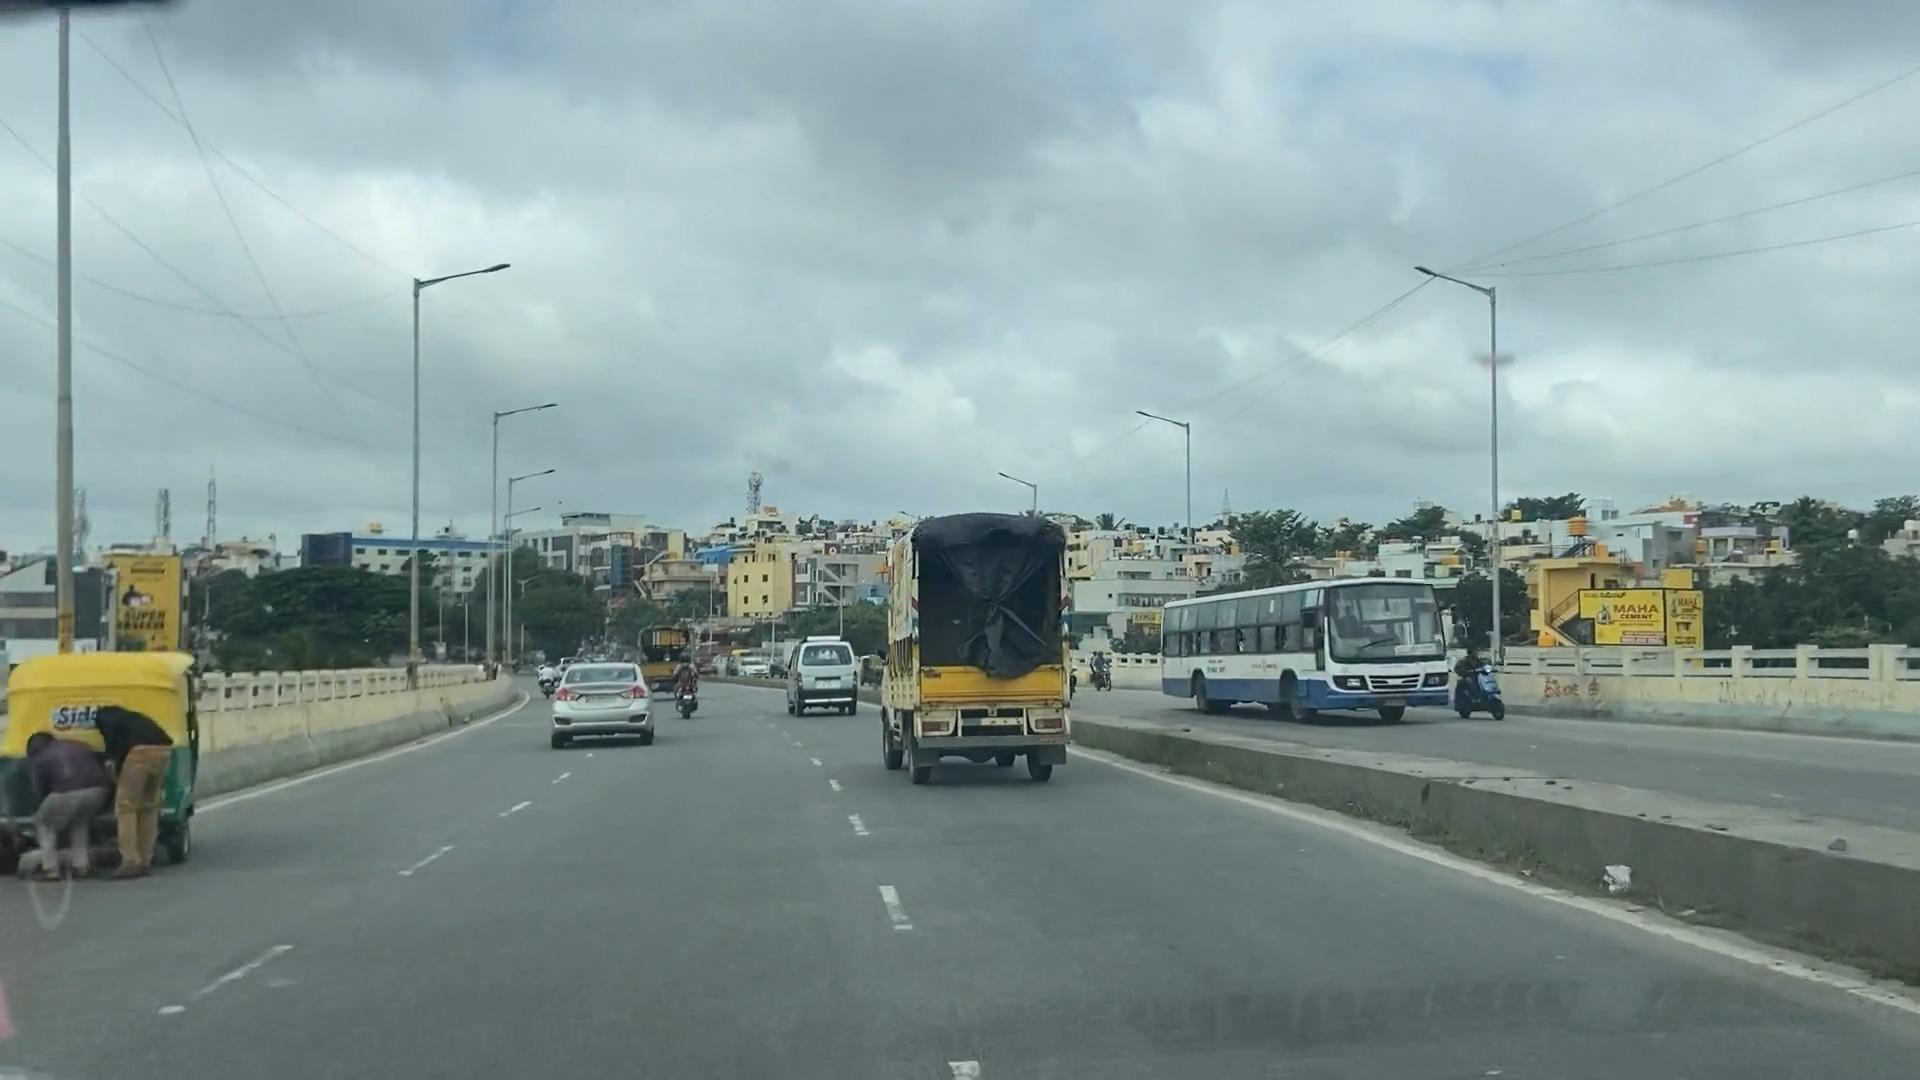HMV: (874, 509, 1120, 783), (1142, 571, 1477, 733)
